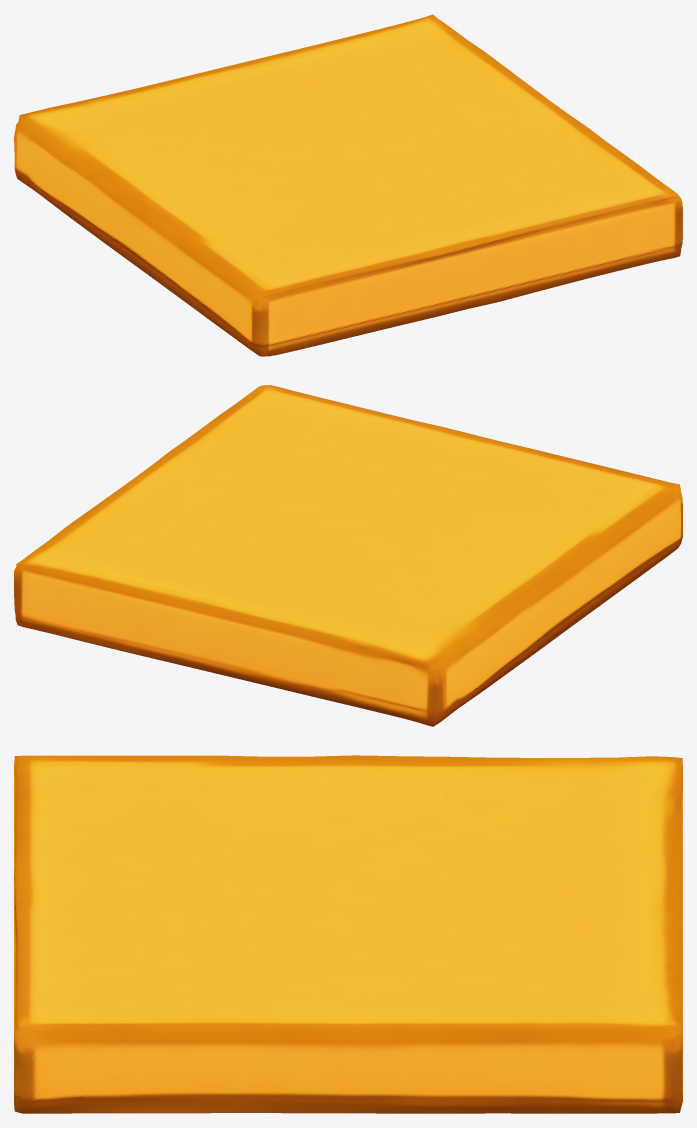
The model's file is 01-floor.fbx.
The picture shows the model from 3 angles, top to bottom: view 1: azimuth 30°, elevation 25°; view 2: azimuth 150°, elevation 25°; view 3: azimuth 270°, elevation 25°; orthographic projection. The views are drawn at different scales.
Visible parts, largest first — view 1: model; view 2: model; view 3: model.
Part boxes in pixels (<box>): model: <box>14,14,682,356</box>; model: <box>14,385,682,726</box>; model: <box>14,755,682,1113</box>.
Size of the model in its own units: 189 by 26.23 by 189.
